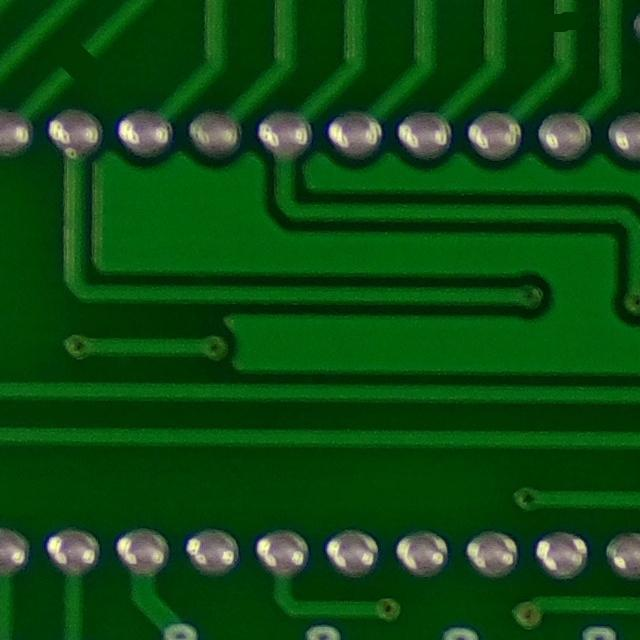open_circuit: (51, 36, 99, 88), (545, 1, 584, 46)
